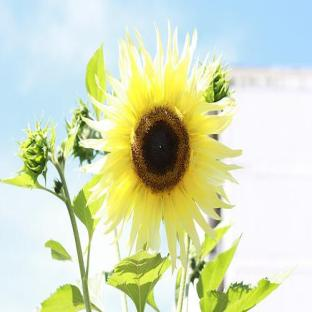sunflower: (85, 22, 243, 312)
